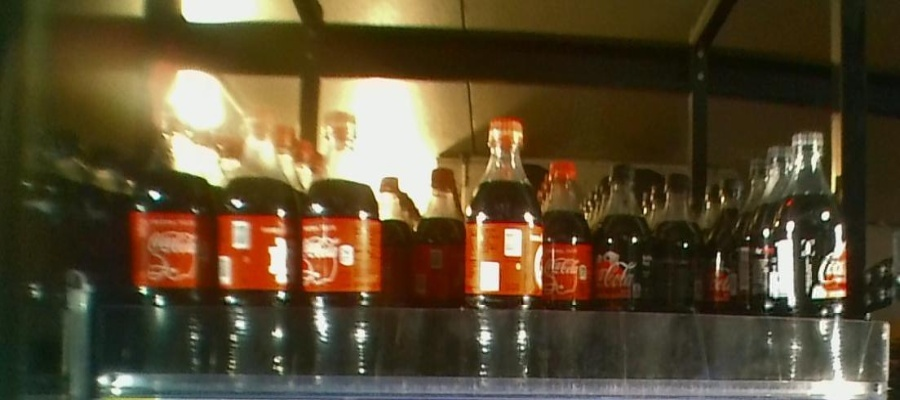bottle: (296, 112, 382, 386), (127, 105, 209, 379), (212, 111, 293, 380), (465, 116, 543, 386), (774, 127, 854, 383), (596, 154, 654, 378), (403, 166, 461, 379), (653, 163, 706, 385), (546, 151, 592, 376)
